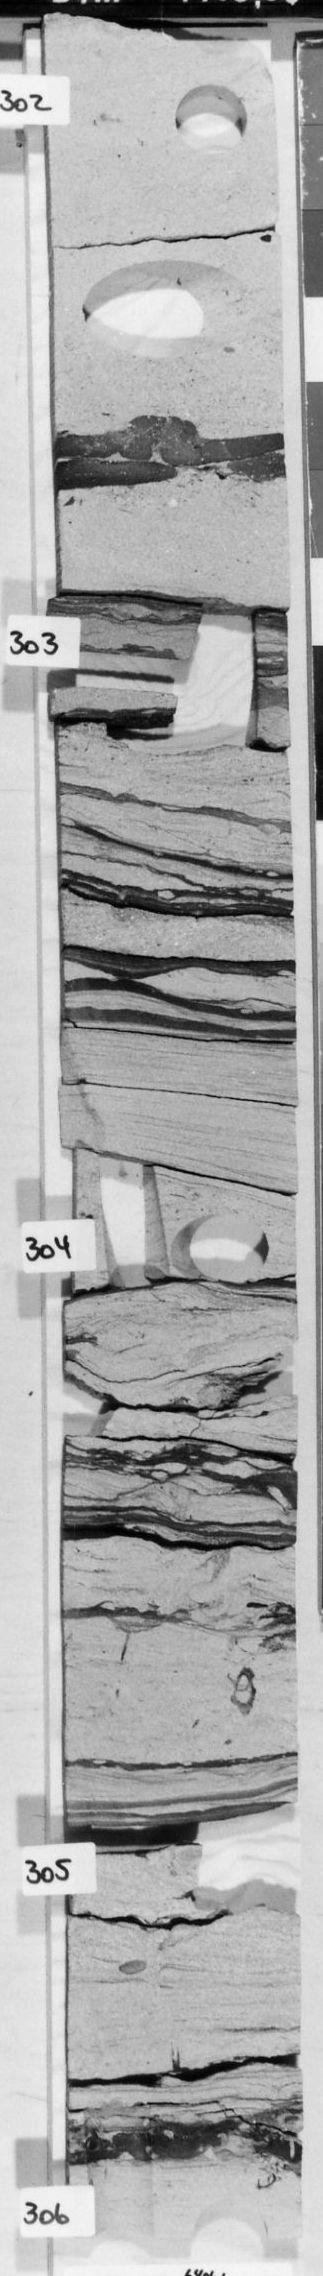hplug: (51, 634, 188, 708), (171, 1213, 282, 1296), (168, 78, 255, 163), (67, 1810, 197, 1857), (185, 2189, 274, 2240)
scal: (67, 253, 267, 364)
vplug: (194, 1794, 303, 1925), (87, 1145, 174, 1298), (183, 601, 264, 762), (78, 2105, 159, 2238)
